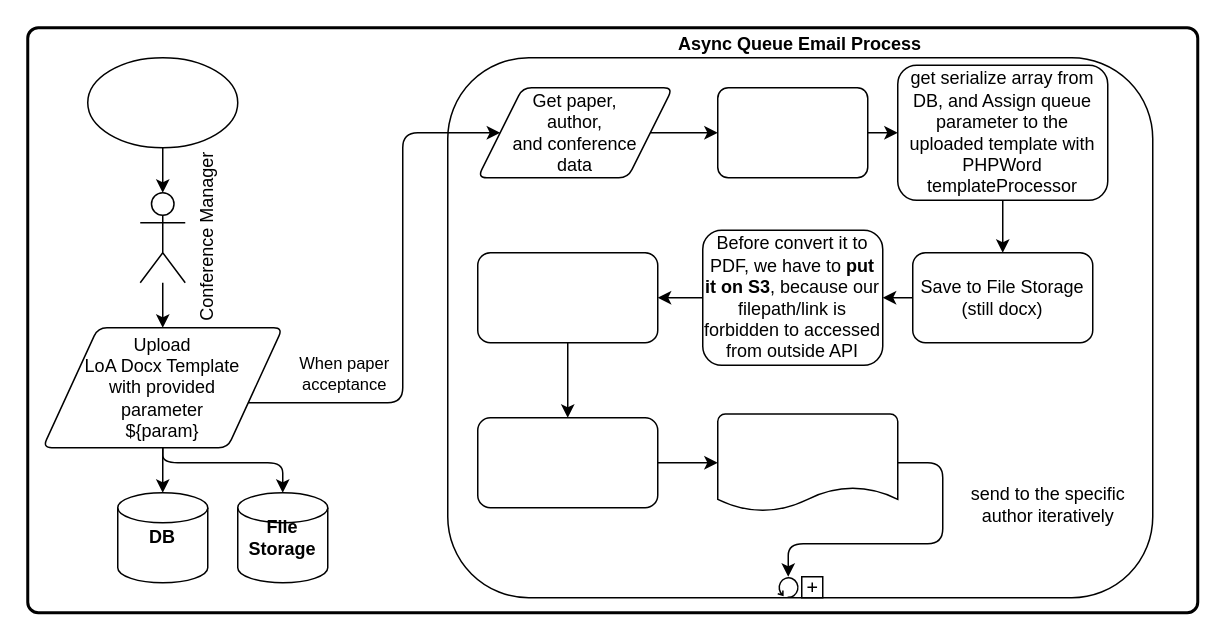
Image size: 1224x639. Some labels were removed from this diagram. The centre of each missing label's shape, as x and y in pixels:
"API2PDF accessing the S3 link and convert docx to PDF" belongs at pixel 567 297.
"create queue and save to DB as serialize array" belongs at pixel 792 132.
"file_put_content() or save it to our File Storage (PDF-converted)" belongs at pixel 567 462.
"prepare PDF as an email attachment" belongs at pixel 807 462.
"Start" belongs at pixel 162 102.
